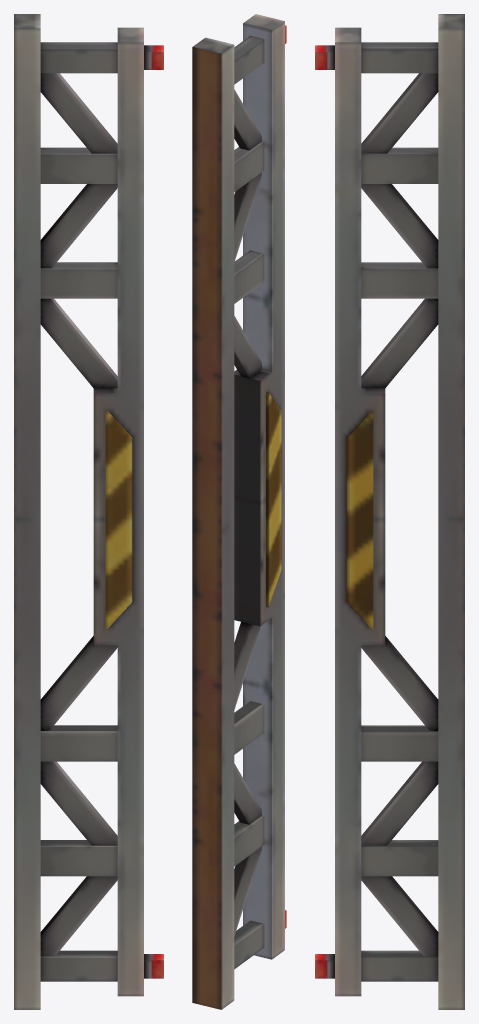
Rendered from SteelBeam.fbx.
3 views of the same model, side by side, from view 1: azimuth 90°, elevation 25°; view 2: azimuth 150°, elevation 25°; view 3: azimuth 270°, elevation 25° (orthographic). The views are drawn at different scales.
Parts seen in each view (by area): view 1: raid_01_obj_08_raid_01_obj_08_0; view 2: raid_01_obj_08_raid_01_obj_08_0; view 3: raid_01_obj_08_raid_01_obj_08_0.
Part boxes in pixels (x1,y1,x2,y2): raid_01_obj_08_raid_01_obj_08_0: (14,14,163,1009); raid_01_obj_08_raid_01_obj_08_0: (192,14,286,1009); raid_01_obj_08_raid_01_obj_08_0: (315,14,464,1009).
Bounding box in the file's own units: 0.253 × 6.79 × 0.9386.
